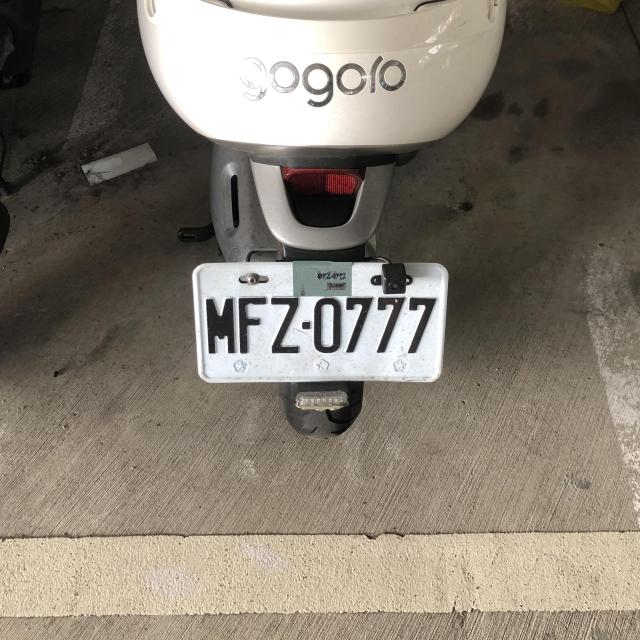W: (190, 255, 448, 388)
